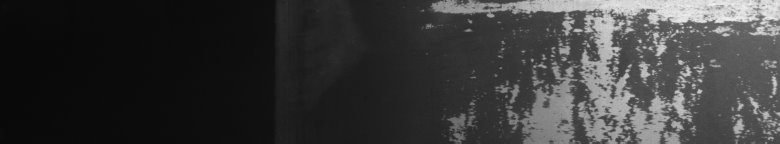kb: (432, 4, 776, 136)
